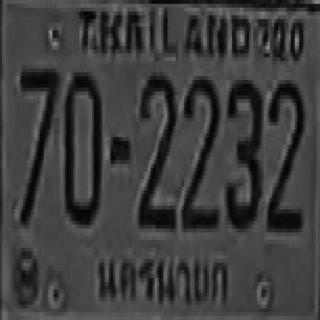N00: (63, 68, 100, 221)
N02: (138, 70, 176, 227), (180, 72, 218, 229), (266, 76, 303, 229)
N03: (224, 76, 261, 225)
N07: (19, 65, 57, 221), (19, 65, 57, 206)
P27: (91, 246, 234, 308)
